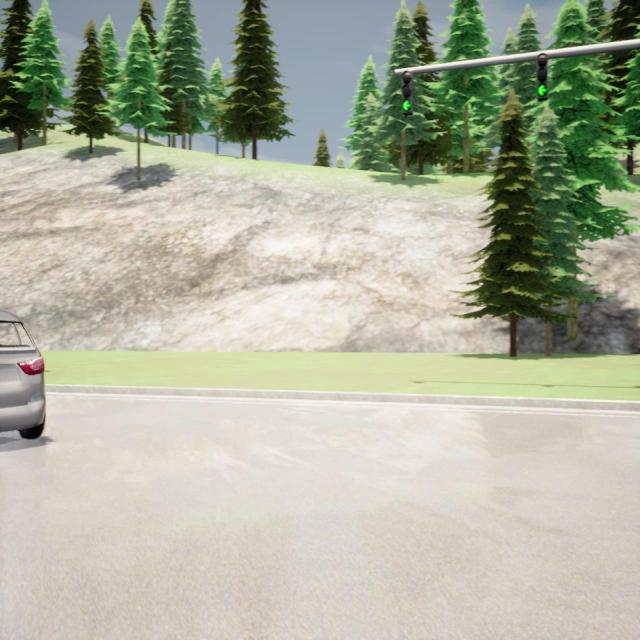Vehicle: (0, 309, 45, 438)
traffic_light: (536, 53, 548, 101), (401, 70, 413, 116)
